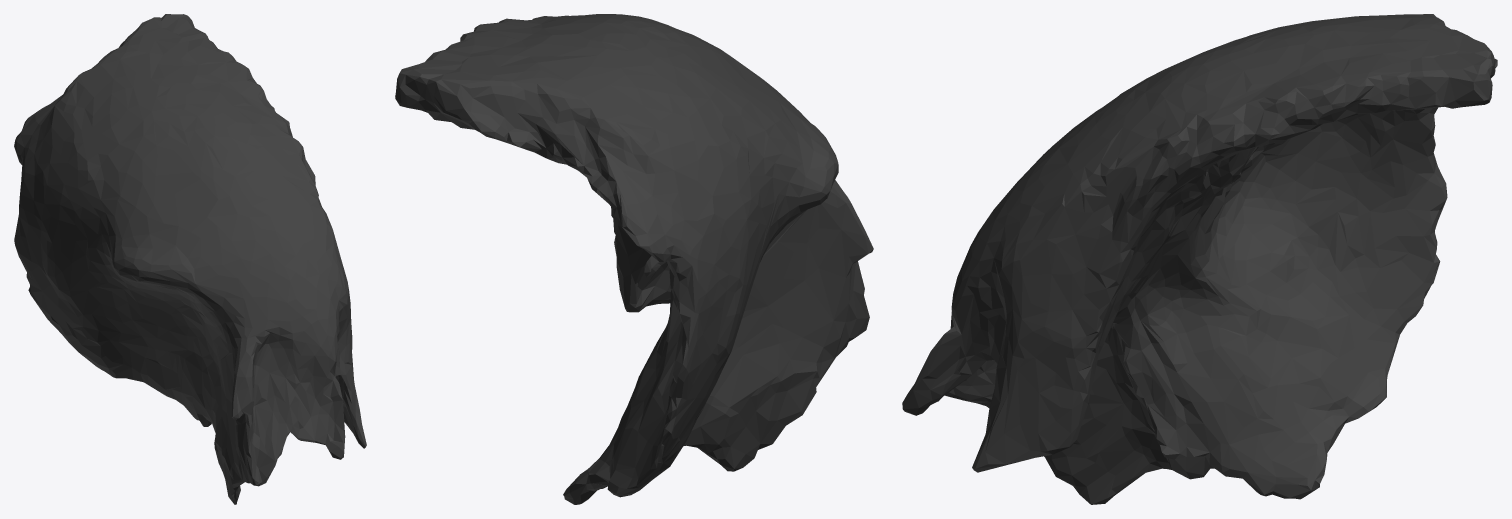
File: Frontal_R.glb
The picture shows the model from 3 angles, left to right: view 1: azimuth 30°, elevation 25°; view 2: azimuth 150°, elevation 25°; view 3: azimuth 270°, elevation 25°; orthographic projection. The views are drawn at different scales.
Visible parts, largest first — view 1: Frontal_R; view 2: Frontal_R; view 3: Frontal_R.
Boxes of the visible parts, <box> form: Frontal_R: <box>14,14,366,504</box>; Frontal_R: <box>395,14,873,504</box>; Frontal_R: <box>902,14,1497,504</box>.
Size of the model in its own units: 195 by 339 by 368.
Materials: 1 (1 with a texture image).
